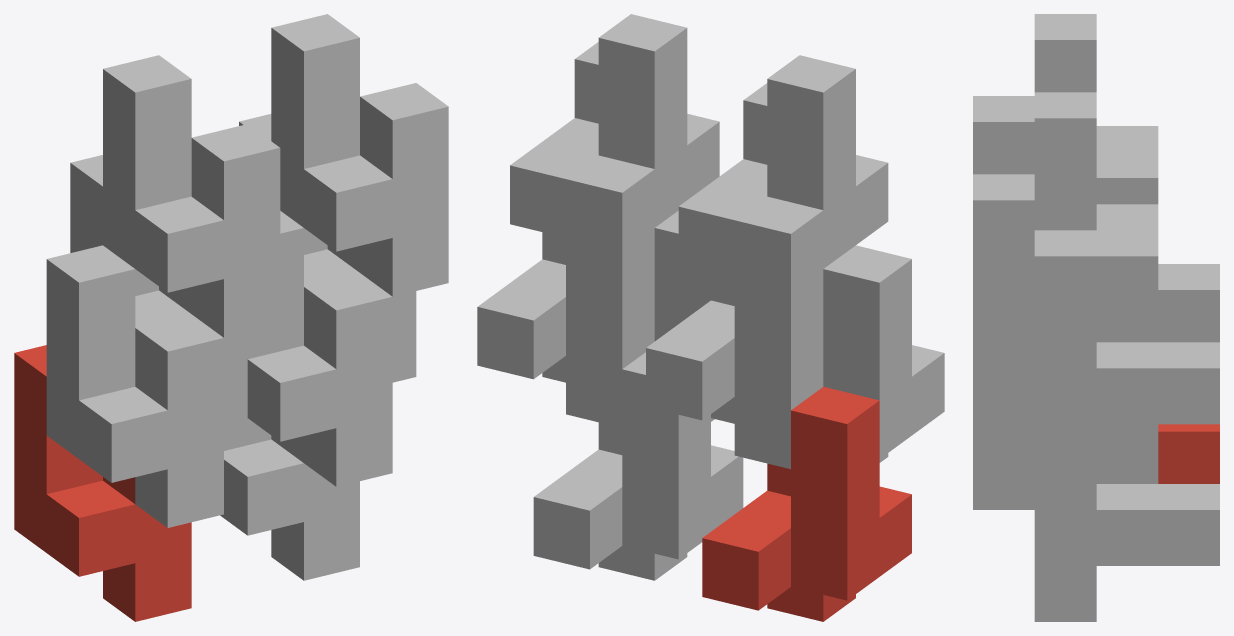
File: tiling.obj
3 renders of one model, left to right at view 1: azimuth 30°, elevation 25°; view 2: azimuth 150°, elevation 25°; view 3: azimuth 270°, elevation 25°, orthographic. The views are drawn at different scales.
Parts seen in each view (by area): view 1: copy_1_domain_2, copy_1_domain_4, copy_1_domain_8, copy_1_domain_6, copy_1_domain_1, copy_1_domain_5, copy_1_domain_3, copy_1_domain_7; view 2: copy_1_domain_1, copy_1_domain_3, copy_1_domain_7, copy_1_domain_5, copy_1_domain_4, copy_1_domain_8, copy_1_domain_2, copy_1_domain_6; view 3: copy_1_domain_8, copy_1_domain_7, copy_1_domain_5, copy_1_domain_4, copy_1_domain_6, copy_1_domain_3, copy_1_domain_1.
Boxes of the visible parts, <box> form: copy_1_domain_2: <box>46,245,223,527</box>; copy_1_domain_4: <box>103,55,280,337</box>; copy_1_domain_8: <box>271,14,448,296</box>; copy_1_domain_6: <box>247,211,392,486</box>; copy_1_domain_1: <box>14,345,191,621</box>; copy_1_domain_5: <box>220,418,359,580</box>; copy_1_domain_3: <box>70,155,247,423</box>; copy_1_domain_7: <box>239,114,416,382</box>; copy_1_domain_1: <box>702,386,911,621</box>; copy_1_domain_3: <box>646,196,823,423</box>; copy_1_domain_7: <box>477,155,654,382</box>; copy_1_domain_5: <box>533,352,743,580</box>; copy_1_domain_4: <box>678,55,888,278</box>; copy_1_domain_8: <box>510,14,719,237</box>; copy_1_domain_2: <box>734,245,944,469</box>; copy_1_domain_6: <box>566,210,714,427</box>; copy_1_domain_8: <box>973,92,1158,368</box>; copy_1_domain_7: <box>1034,204,1219,480</box>; copy_1_domain_5: <box>1034,454,1219,621</box>; copy_1_domain_4: <box>973,14,1158,204</box>; copy_1_domain_6: <box>973,368,1158,509</box>; copy_1_domain_3: <box>1096,126,1219,342</box>; copy_1_domain_1: <box>1158,424,1219,483</box>.
Bounding box in the file's own units: 6 × 9 × 4.
